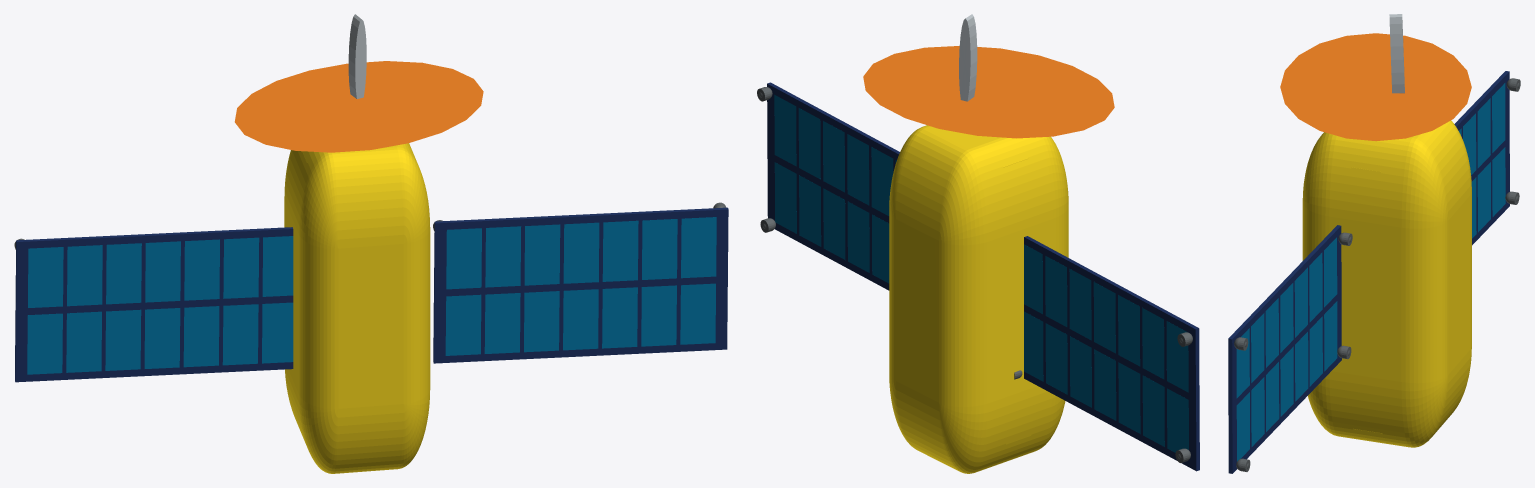
Rendered from tinker.obj.
3 views of the same model, side by side, from view 1: azimuth 30°, elevation 25°; view 2: azimuth 150°, elevation 25°; view 3: azimuth 270°, elevation 25° (orthographic). The views are drawn at different scales.
Visible parts, largest first — view 1: group_0_30377, group_0_16768282, group_0_1650274, group_0_16089887, group_0_12568524; view 2: group_0_16768282, group_0_30377, group_0_16089887, group_0_1650274, group_0_12568524, group_0_6383466; view 3: group_0_16768282, group_0_16089887, group_0_30377, group_0_1650274, group_0_12568524, group_0_6383466.
Part boxes in pixels (x1,y1,x2,y2): group_0_30377: (27, 217, 716, 374); group_0_16768282: (284, 143, 430, 473); group_0_1650274: (15, 207, 728, 382); group_0_16089887: (234, 61, 483, 152); group_0_12568524: (348, 14, 366, 98); group_0_16768282: (889, 125, 1068, 473); group_0_30377: (774, 94, 1188, 452); group_0_16089887: (863, 46, 1114, 138); group_0_1650274: (767, 82, 1199, 471); group_0_12568524: (959, 14, 977, 101); group_0_6383466: (757, 87, 1192, 462); group_0_16768282: (1302, 120, 1471, 447); group_0_16089887: (1280, 33, 1471, 141); group_0_30377: (1236, 83, 1505, 461); group_0_1650274: (1228, 71, 1509, 473); group_0_12568524: (1389, 14, 1404, 93); group_0_6383466: (1234, 78, 1520, 471).
Size of the model in its own units: 150 by 108 by 68.68.
